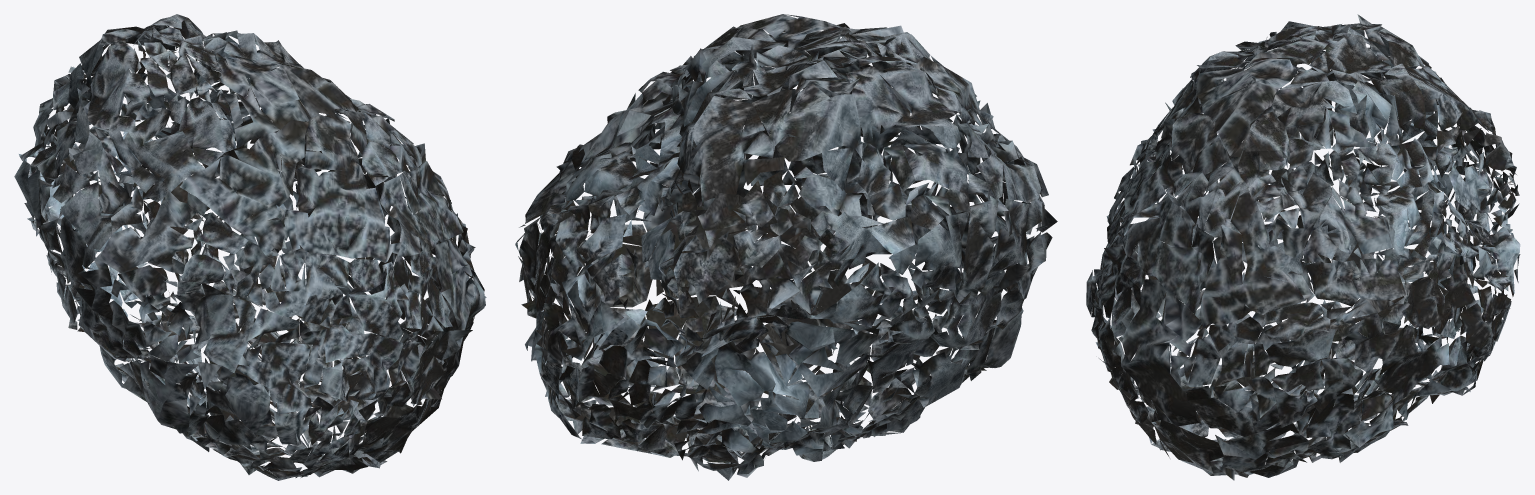
The model's file is asteroid3.glb.
The picture shows the model from 3 angles, left to right: view 1: azimuth 30°, elevation 25°; view 2: azimuth 150°, elevation 25°; view 3: azimuth 270°, elevation 25°; orthographic projection. The views are drawn at different scales.
Parts seen in each view (by area): view 1: Mesh_0; view 2: Mesh_0; view 3: Mesh_0.
Part boxes in pixels (x1=…): Mesh_0: x1=14, y1=14, x2=486, y2=480; Mesh_0: x1=515, y1=14, x2=1057, y2=480; Mesh_0: x1=1086, y1=14, x2=1520, y2=480.
Size of the model in its own units: 2 by 1.94 by 2.
1 material, 1 textured.
